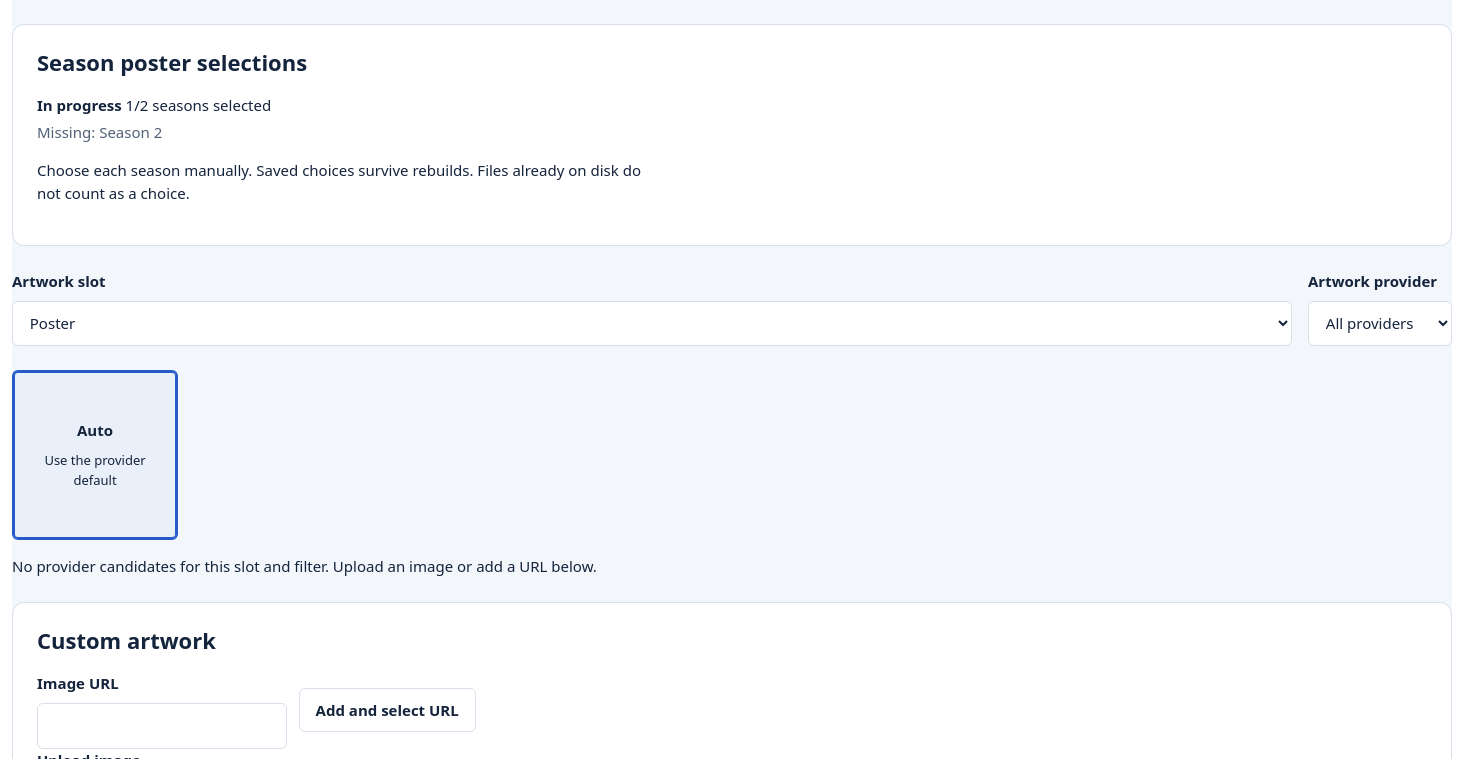
it: manual season choices remain editable in Artwork and update progress
Expected: the text "In progress" is shown, left=37, top=95, right=122, bottom=115
Step 1. Select "Season 2" in the dropdown labelled "Artwork slot" → (652, 323), box left=12, top=301, right=1292, bottom=346
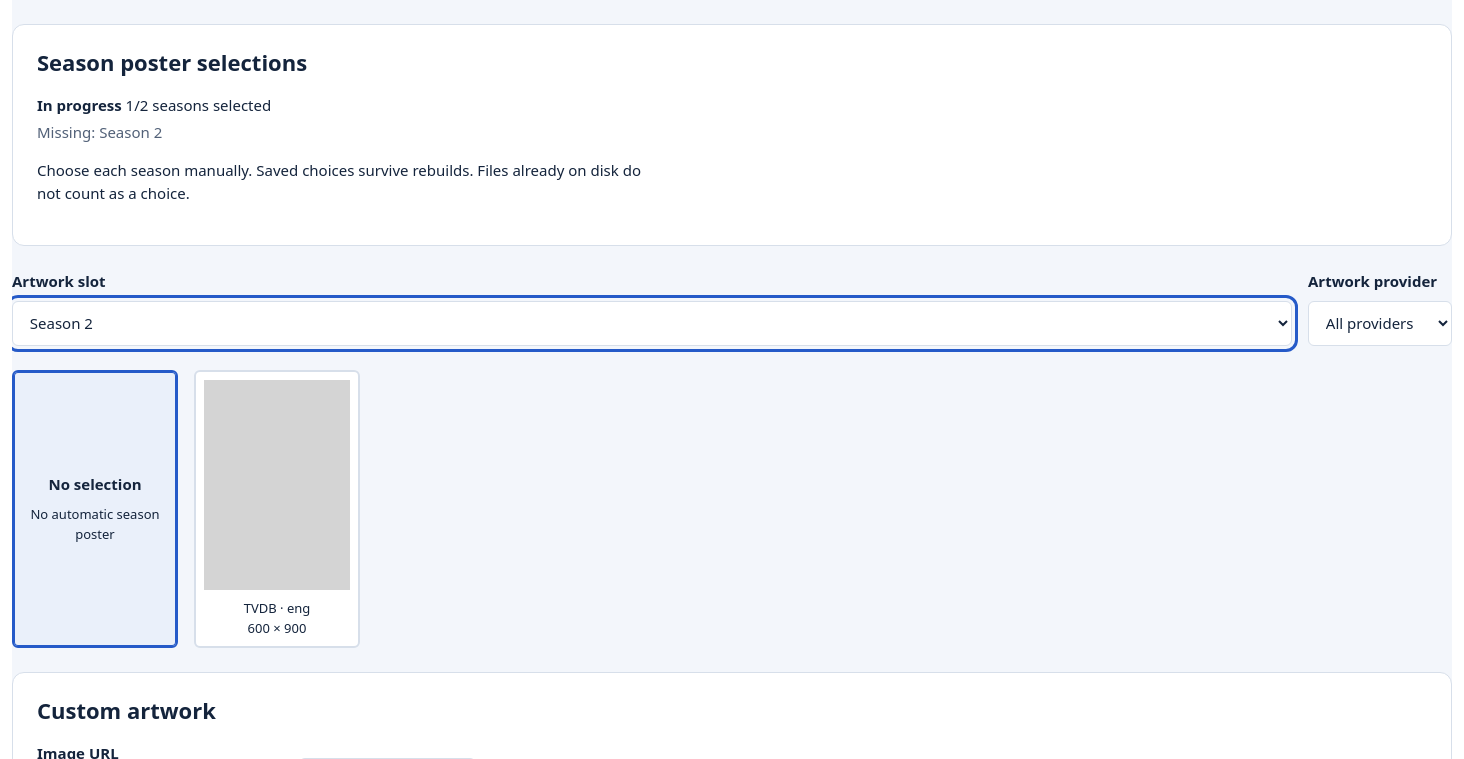
Step 2. Click the button named "TVDB season-02-poster" → (277, 509), box left=194, top=370, right=360, bottom=648
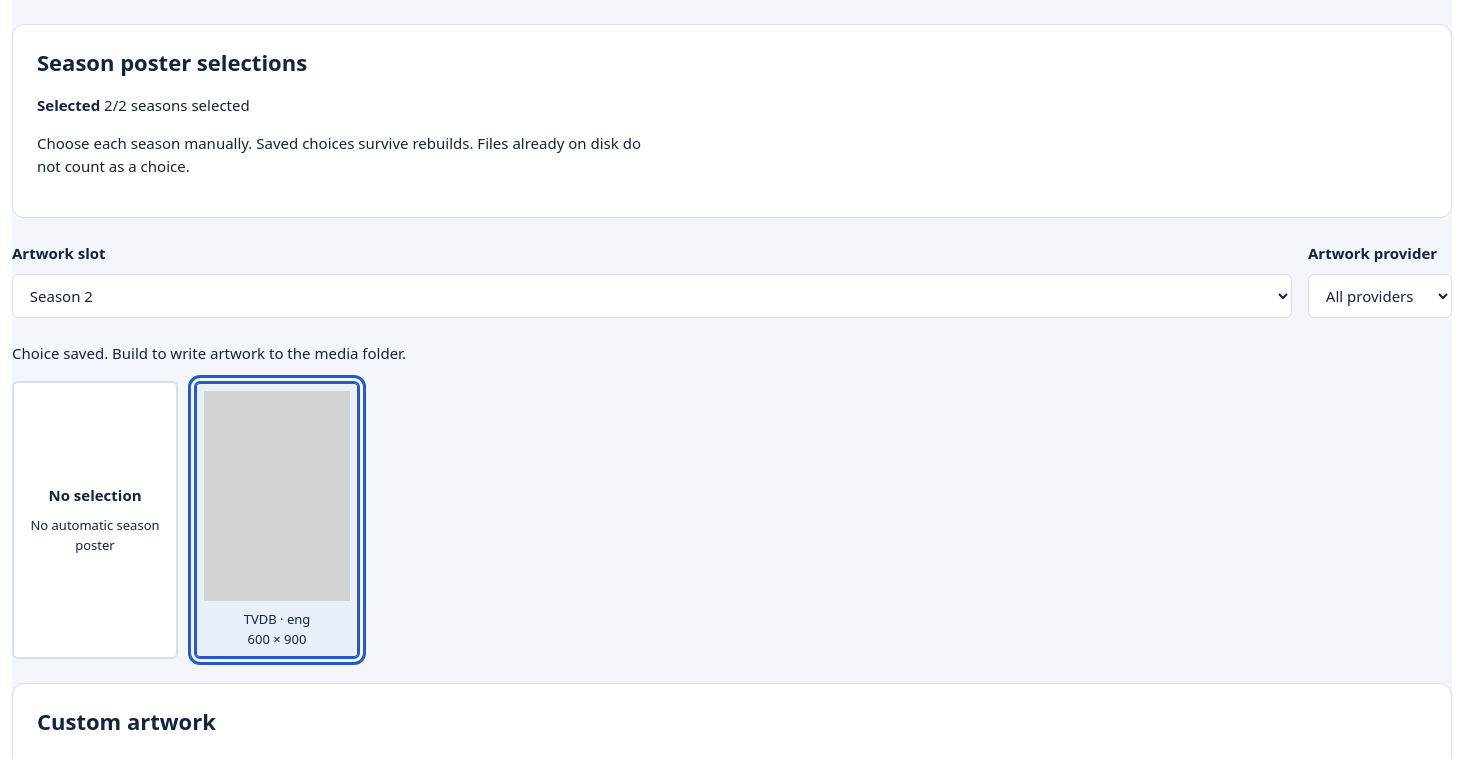
Result: the text "Selected" is shown at left=37, top=95, right=100, bottom=115
Step 3. Click the button "No selection No automatic season poster" → (95, 520), box left=12, top=381, right=178, bottom=659
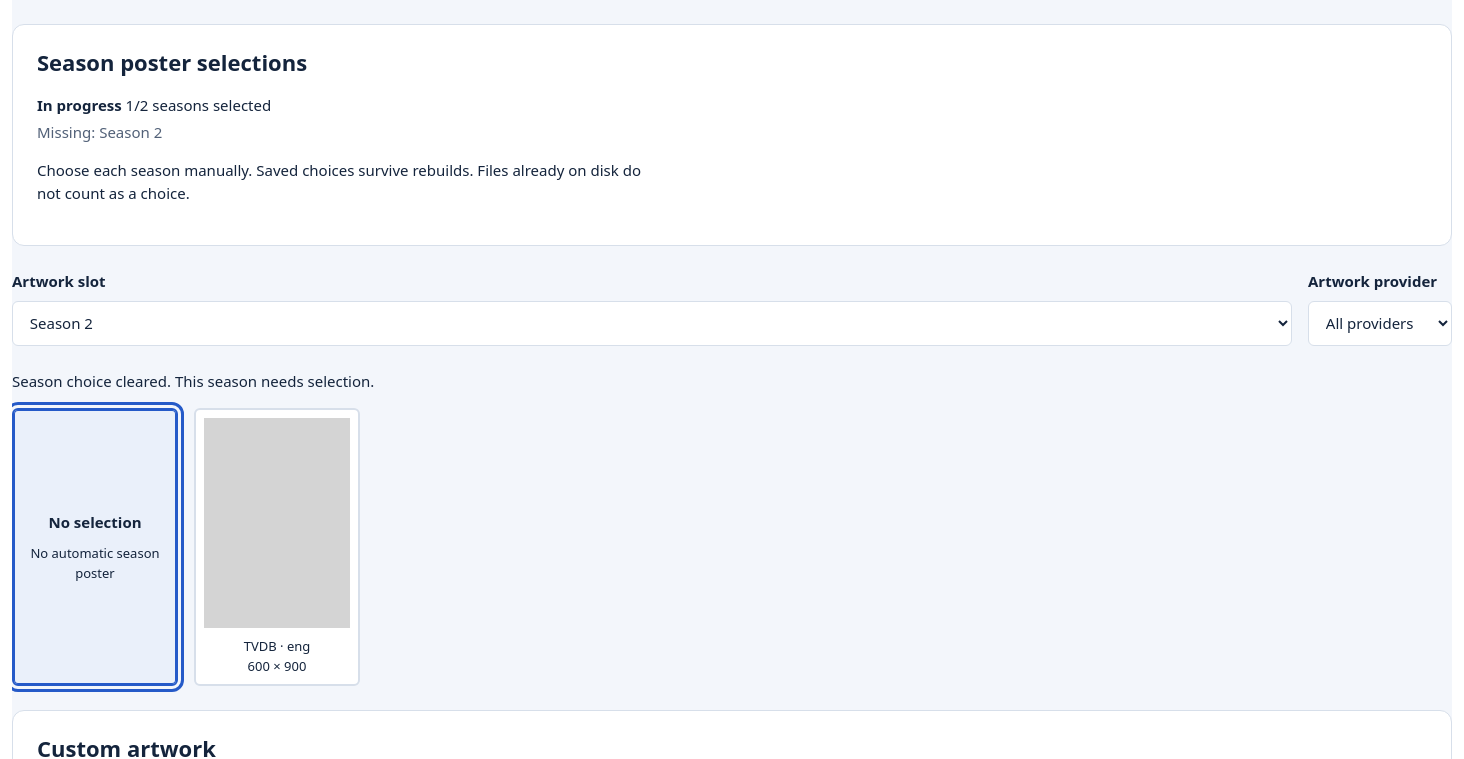
Result: the text "In progress" is shown at left=37, top=95, right=122, bottom=115
